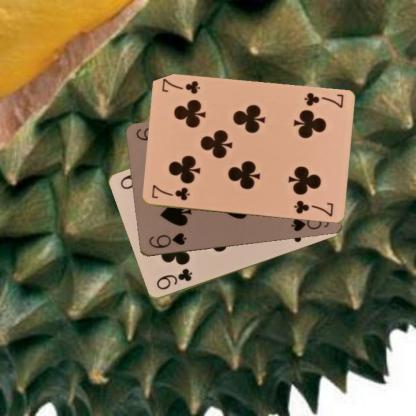6s: (146, 230, 188, 250)
7c: (301, 90, 344, 110), (148, 182, 190, 202)
9c: (154, 266, 194, 292)
